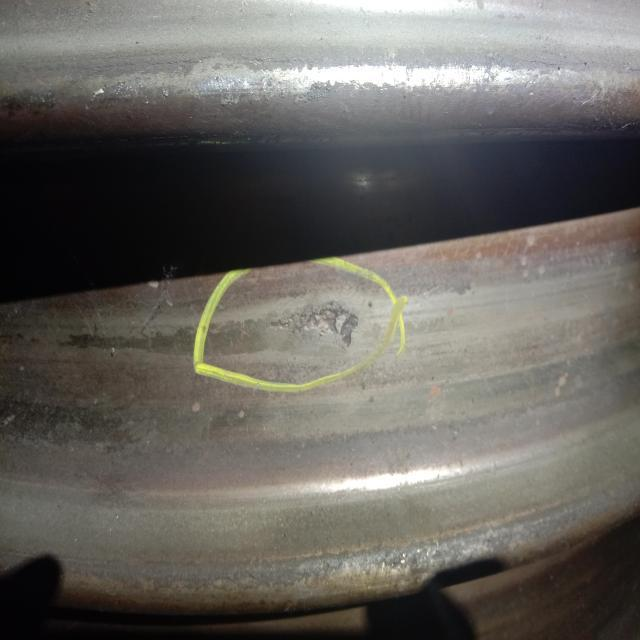Peeling: (269, 300, 360, 348)
